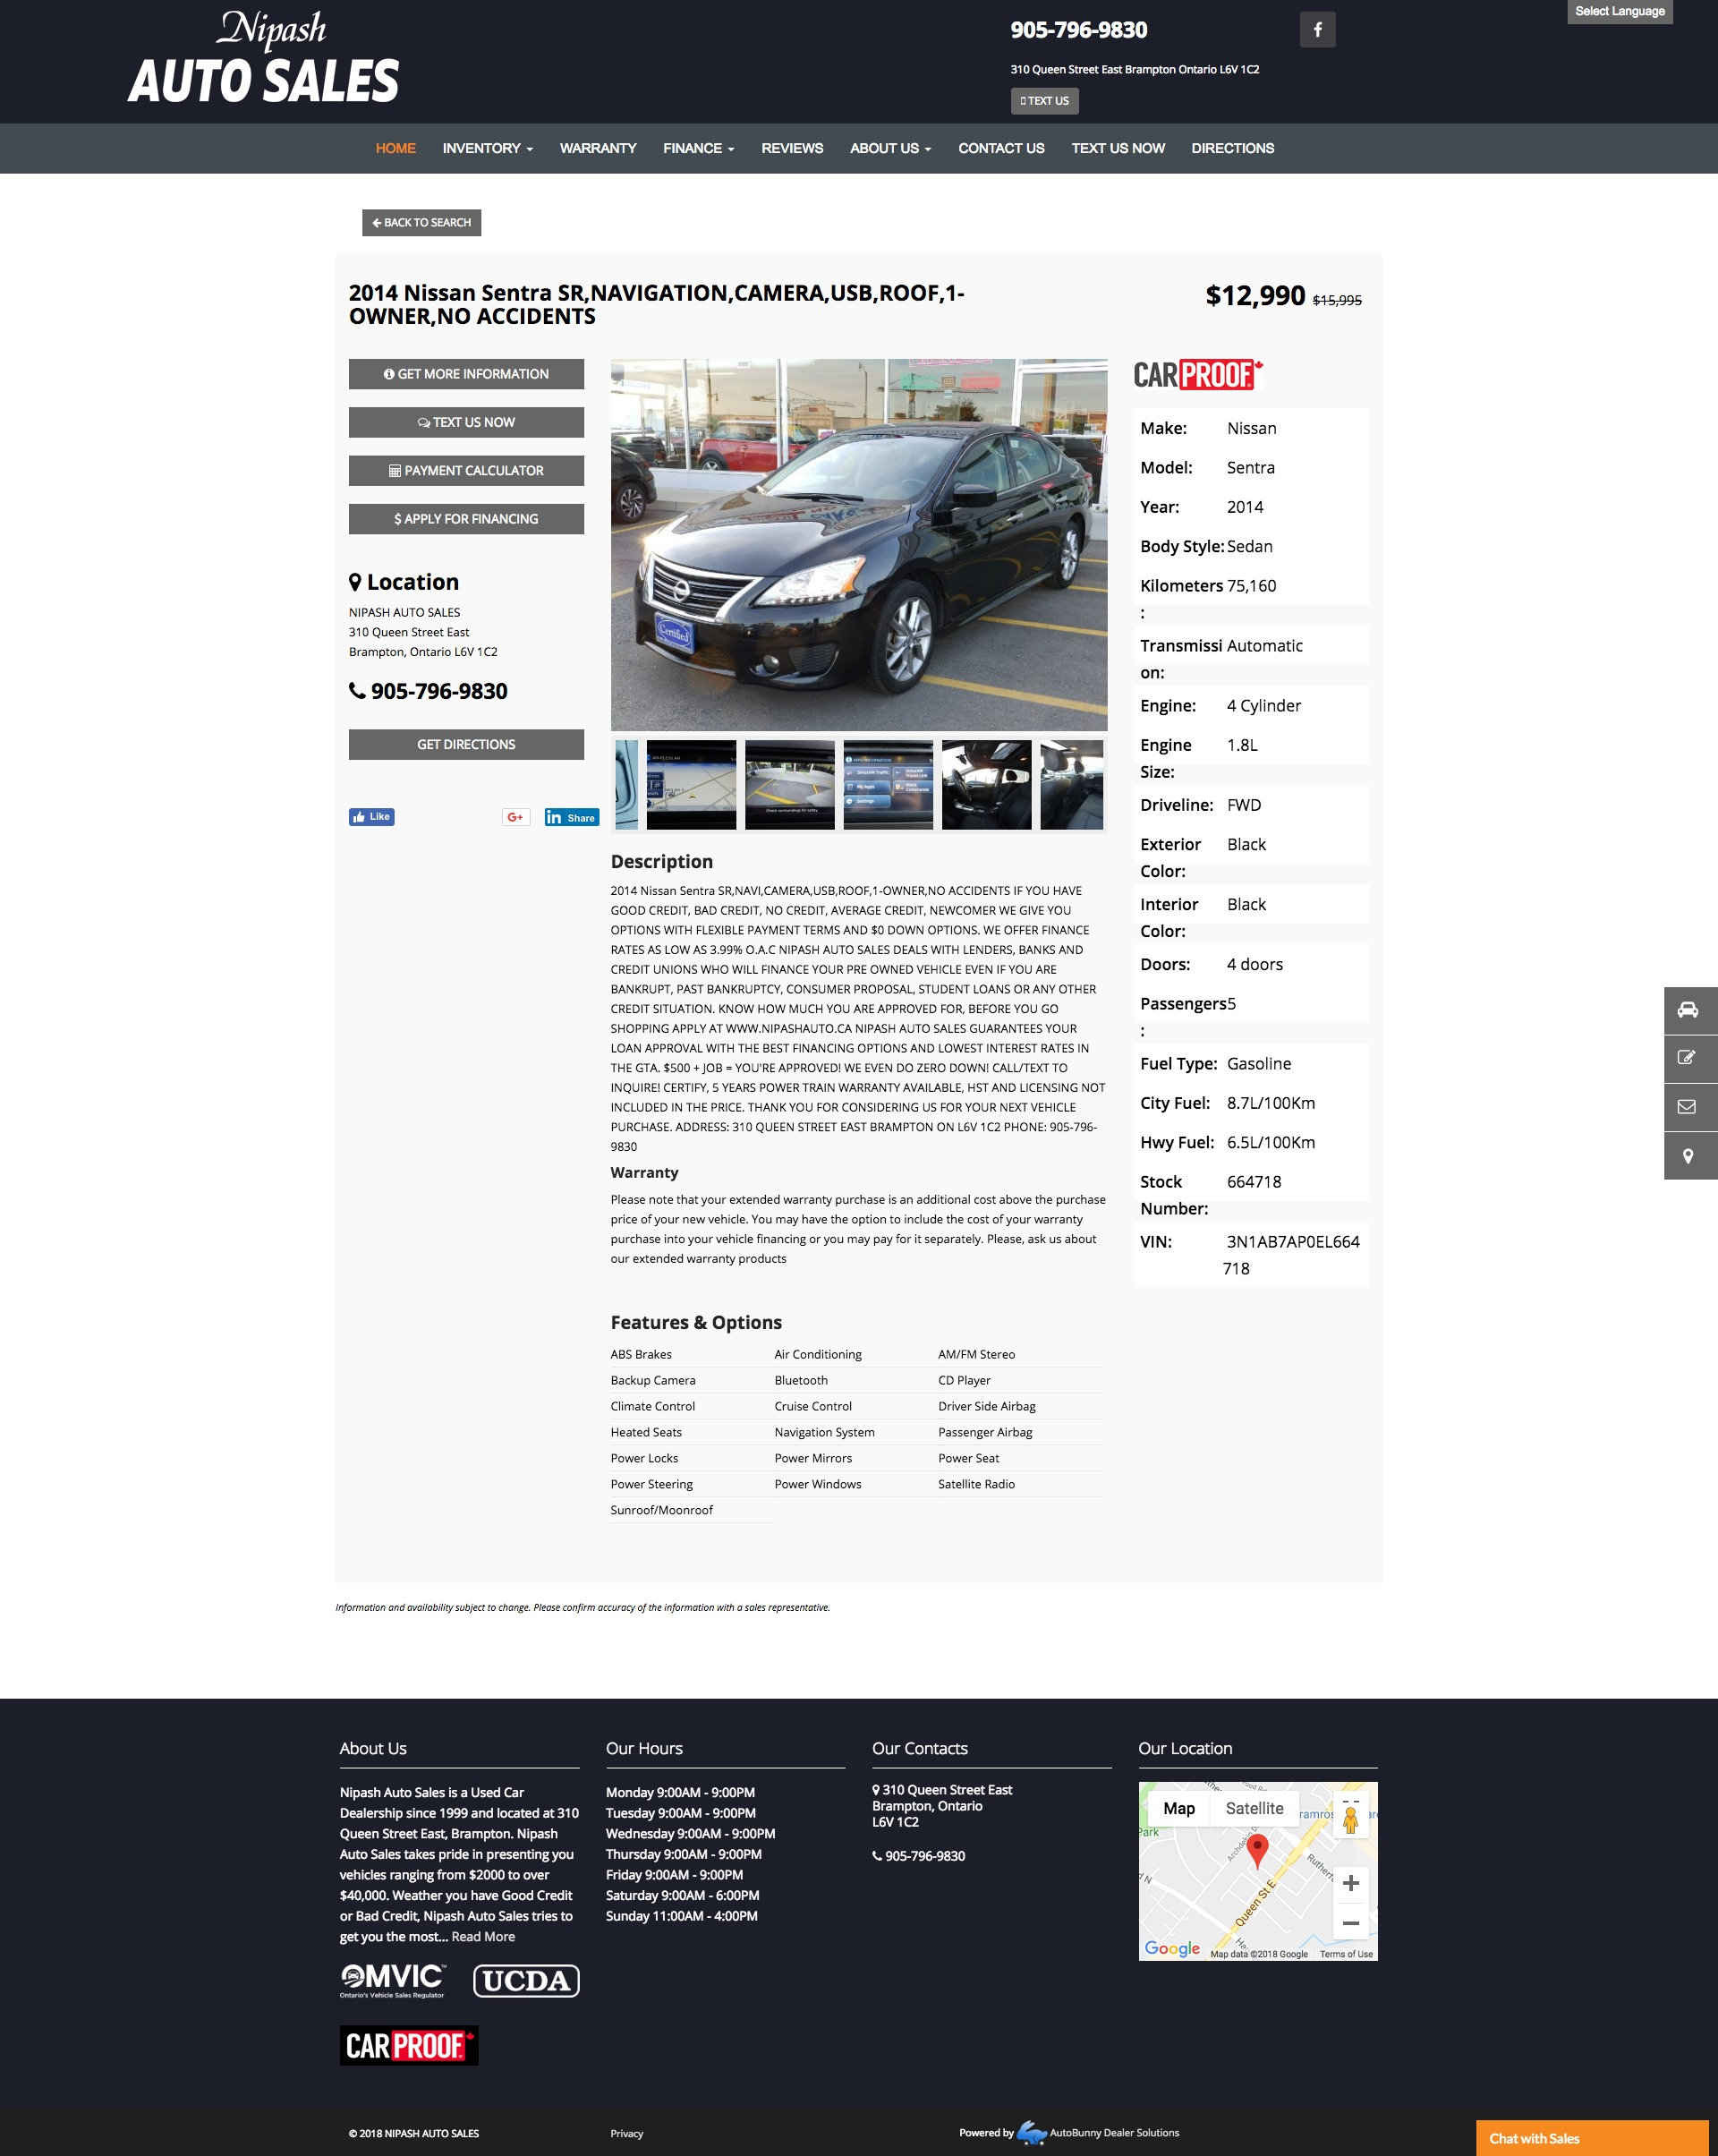car: (1087, 740, 1106, 831)
